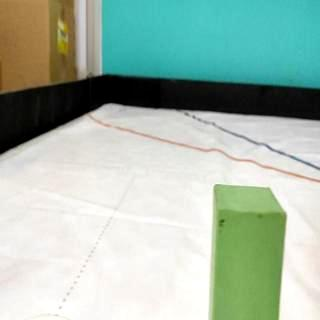greenbox: (210, 182, 288, 320)
